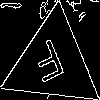F: (28, 38, 71, 92)
